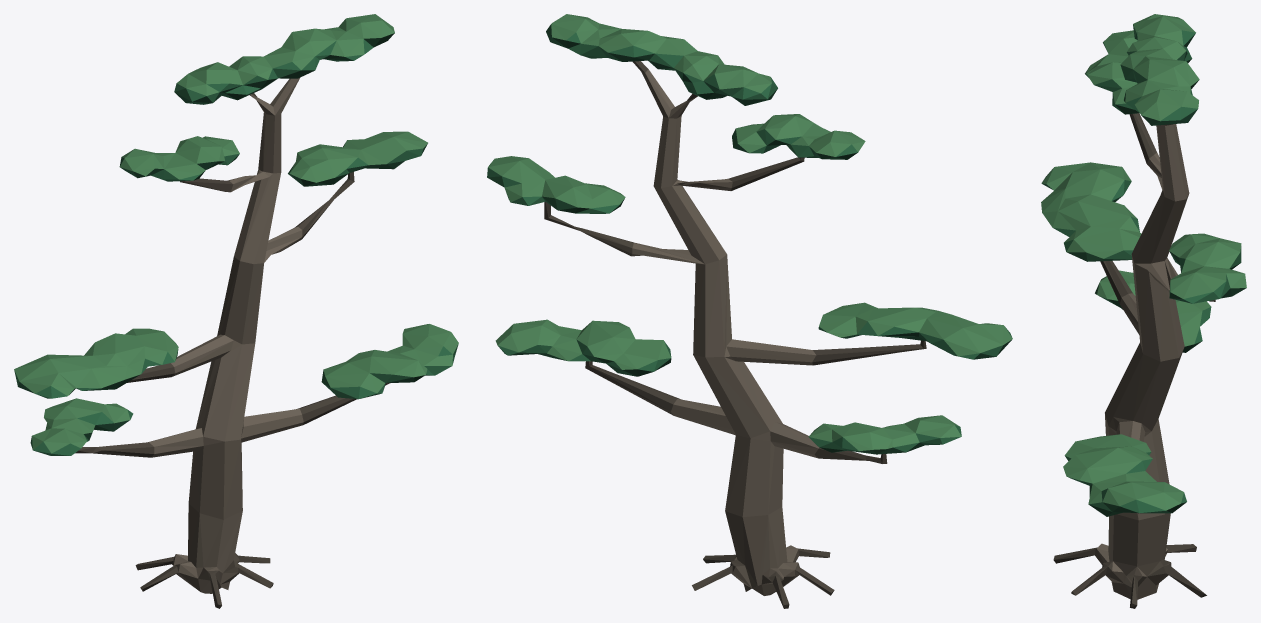
The model's file is ancient-pine-1401-lod2.glb.
3 renders of one model, left to right at view 1: azimuth 30°, elevation 25°; view 2: azimuth 150°, elevation 25°; view 3: azimuth 270°, elevation 25°, orthographic. The views are drawn at different scales.
Visible parts, largest first — view 1: n12.006, n8.006, n11.006, n9.006, n10.006; view 2: n8.006, n12.006, n11.006, n9.006, n10.006; view 3: n12.006, n8.006, n11.006, n9.006, n10.006.
Part boxes in pixels (x1,y1,x2,y2): n12.006: (14, 14, 458, 453); n8.006: (148, 78, 303, 593); n11.006: (14, 39, 458, 455); n9.006: (75, 93, 390, 608); n10.006: (18, 33, 431, 455); n8.006: (631, 69, 818, 595); n12.006: (488, 14, 1012, 450); n11.006: (487, 24, 1011, 452); n9.006: (544, 61, 926, 608); n10.006: (498, 32, 1011, 454); n12.006: (1041, 14, 1246, 510); n8.006: (1095, 124, 1189, 599); n11.006: (1042, 25, 1241, 513); n9.006: (1053, 113, 1215, 608); n10.006: (1042, 34, 1246, 516).
Size of the model in its own units: 4.98 by 5.41 by 1.7.
